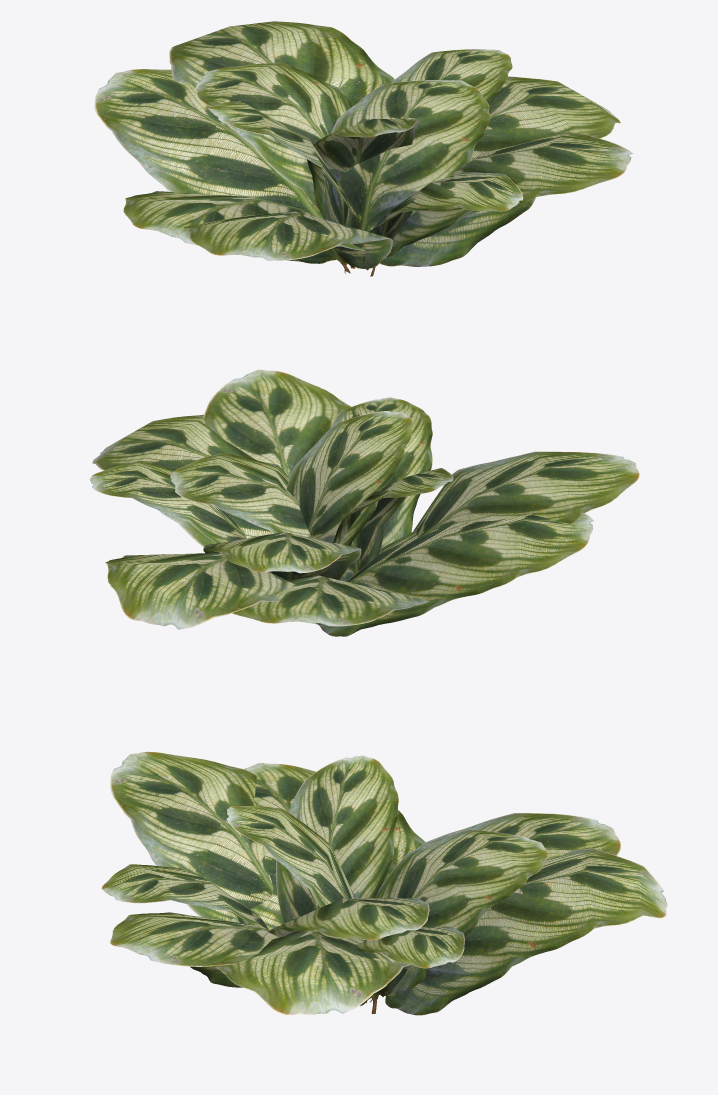
File: tropical_leaf_c.glb
3 views of the same model, one above another, from view 1: azimuth 30°, elevation 25°; view 2: azimuth 150°, elevation 25°; view 3: azimuth 270°, elevation 25° (orthographic). The views are drawn at different scales.
Parts seen in each view (by area): view 1: Plant alpha 5; view 2: Plant alpha 5; view 3: Plant alpha 5.
Boxes of the visible parts, <box> form: Plant alpha 5: <box>94,21,632,276</box>; Plant alpha 5: <box>90,369,639,636</box>; Plant alpha 5: <box>101,751,667,1015</box>.
Bounding box in the file's own units: 1.88 × 0.5914 × 1.88.
Materials: 1 (1 with a texture image).
